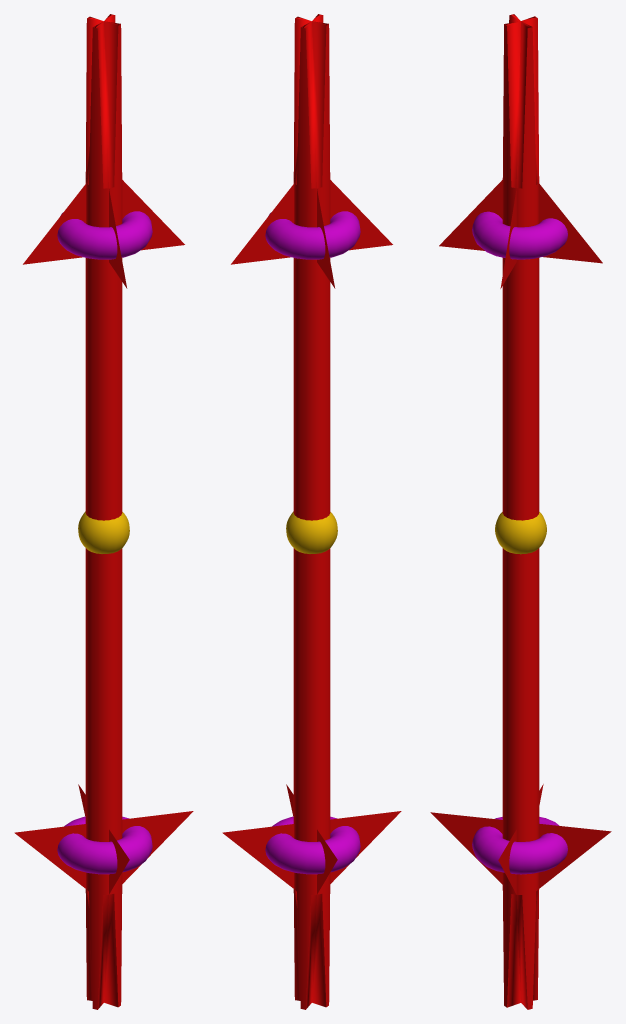
File: Staff_Of_Eruptions_Final.fbx
3 views of the same model, side by side, from view 1: azimuth 30°, elevation 25°; view 2: azimuth 210°, elevation 25°; view 3: azimuth 270°, elevation 25° (orthographic).
Parts seen in each view (by area): view 1: pCylinder1, pTorus1, pTorus2, pSphere1; view 2: pCylinder1, pTorus1, pTorus2, pSphere1; view 3: pCylinder1, pTorus1, pTorus2, pSphere1.
Part boxes in pixels (bbox=[...]): pCylinder1: bbox=[14, 14, 193, 1009]; pTorus1: bbox=[57, 211, 152, 259]; pTorus2: bbox=[57, 816, 152, 874]; pSphere1: bbox=[78, 511, 129, 553]; pCylinder1: bbox=[222, 14, 401, 1009]; pTorus1: bbox=[265, 211, 360, 259]; pTorus2: bbox=[265, 816, 360, 874]; pSphere1: bbox=[286, 511, 337, 553]; pCylinder1: bbox=[430, 14, 611, 1009]; pTorus1: bbox=[472, 211, 567, 259]; pTorus2: bbox=[472, 817, 567, 874]; pSphere1: bbox=[495, 512, 546, 554].
Bounding box in the file's own units: 1.2 × 7.14 × 1.2.
